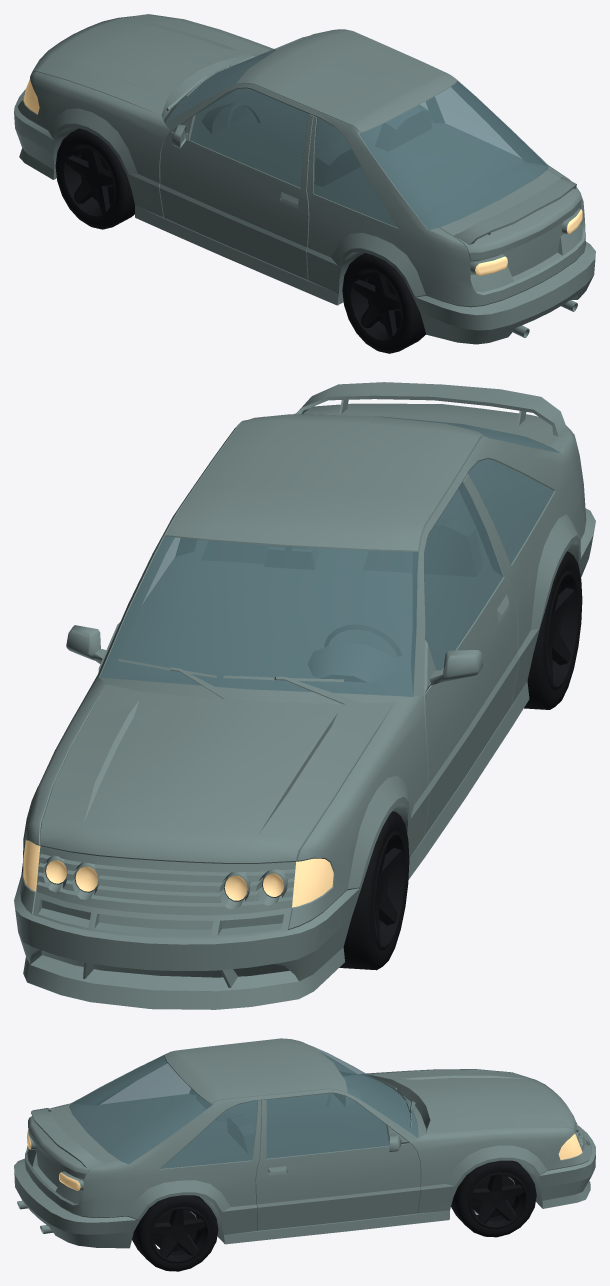
Rendered from coupe.glb.
3 renders of one model, top to bottom at view 1: azimuth 30°, elevation 25°; view 2: azimuth 150°, elevation 25°; view 3: azimuth 270°, elevation 25°, orthographic. The views are drawn at different scales.
Visible parts, largest first — view 1: Coupe_Body, Wheel_F001, Wheel_F; view 2: Coupe_Body, Wheel_F, Wheel_F001; view 3: Coupe_Body, Wheel_F003, Wheel_F002.
Boxes of the visible parts, <box> form: Coupe_Body: <box>14,14,595,344</box>; Wheel_F001: <box>342,253,426,353</box>; Wheel_F: <box>55,128,134,229</box>; Coupe_Body: <box>14,382,595,1009</box>; Wheel_F: <box>339,811,409,970</box>; Wheel_F001: <box>524,551,582,709</box>; Coupe_Body: <box>14,1038,595,1248</box>; Wheel_F003: <box>132,1195,218,1271</box>; Wheel_F002: <box>451,1160,536,1237</box>.
Size of the model in its own units: 1.98 by 1.26 by 4.15.
